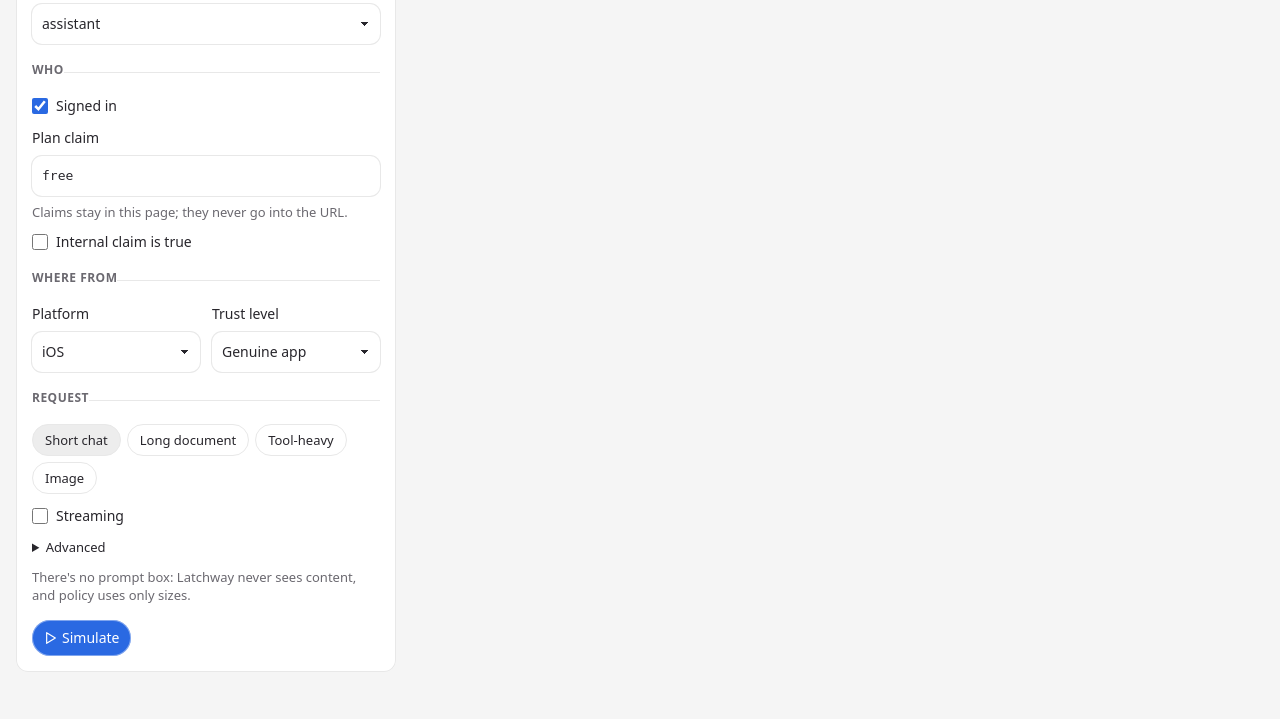
it: Simulator › refuses to show a result that belongs to another revision
(page scrolled)
Click the button "Simulate": click(82, 638) [32, 620, 132, 656]
(page scrolled)
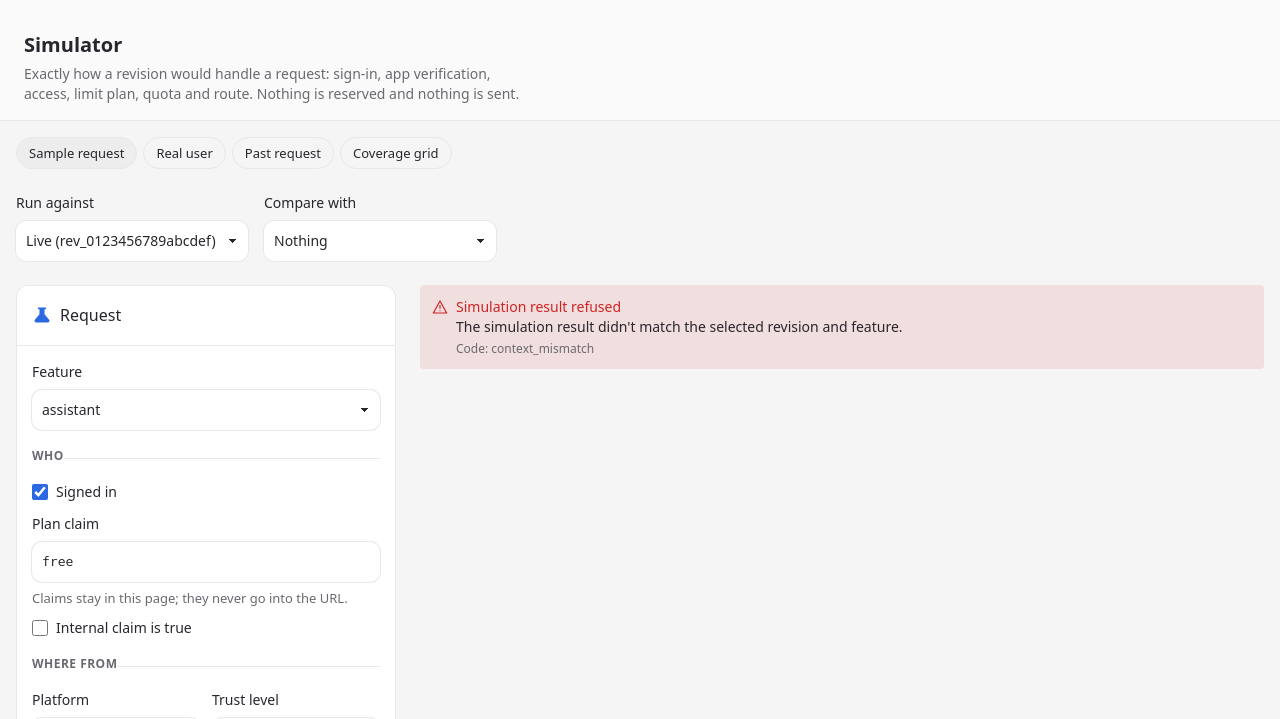
Now the text "didn't match the selected revision and feature" is shown, box [456, 317, 903, 336]
